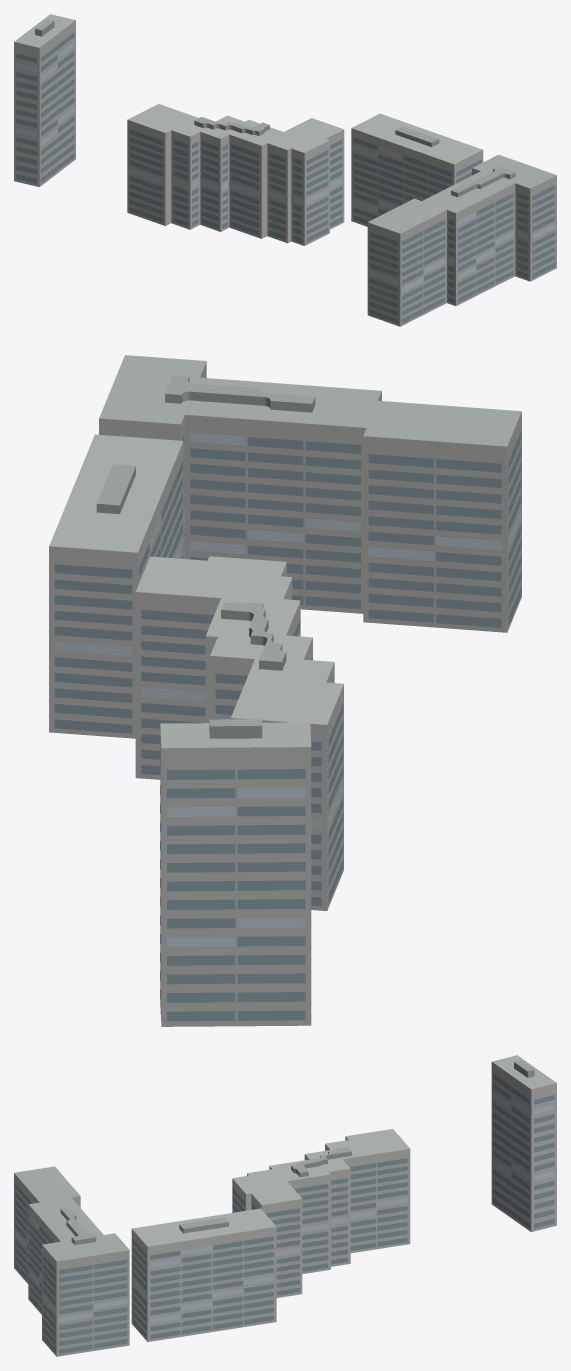
The model's file is apt-a13812001.glb.
3 views of the same model, one above another, from view 1: azimuth 30°, elevation 25°; view 2: azimuth 150°, elevation 25°; view 3: azimuth 270°, elevation 25° (orthographic). The views are drawn at different scales.
Parts seen in each view (by area): view 1: apt-a13812001; view 2: apt-a13812001; view 3: apt-a13812001.
Boxes of the visible parts, x1,y1,x2,y2 form: apt-a13812001: [14, 14, 556, 326]; apt-a13812001: [49, 355, 521, 1026]; apt-a13812001: [14, 1055, 556, 1356].
Bounding box in the file's own units: 109 × 47.81 × 158.
